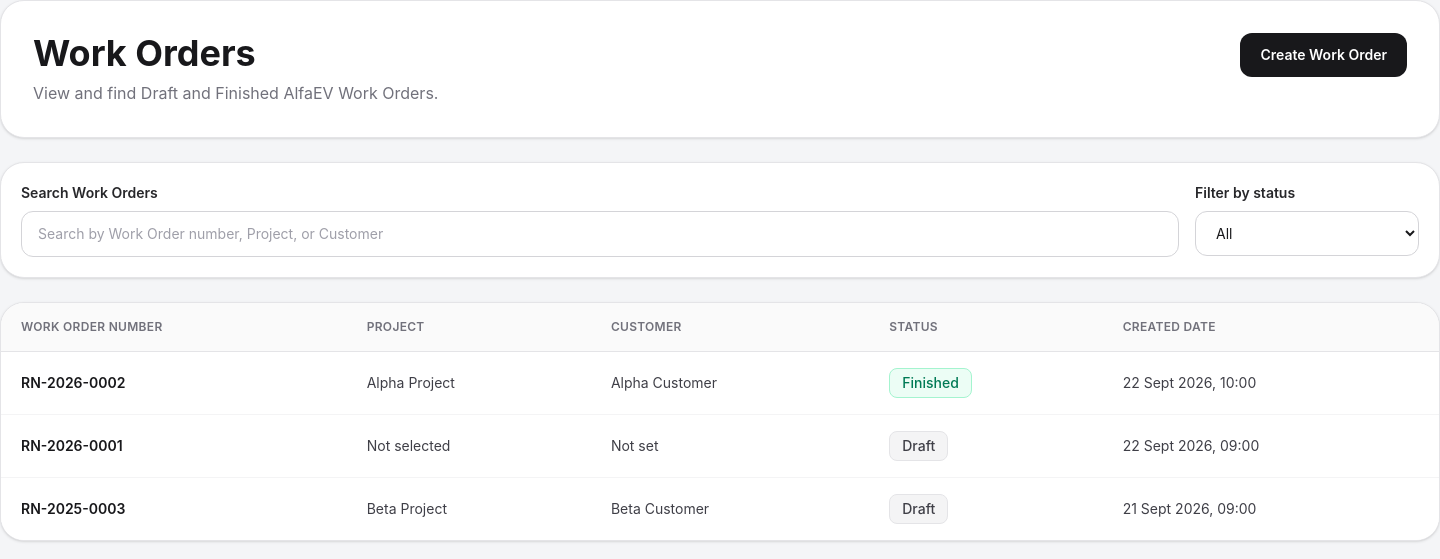
WorkOrdersPage › stays on the list and shows a safe generic failure error
Click the button "Create Work Order". click: (1324, 55)
box: [1240,33,1407,77]
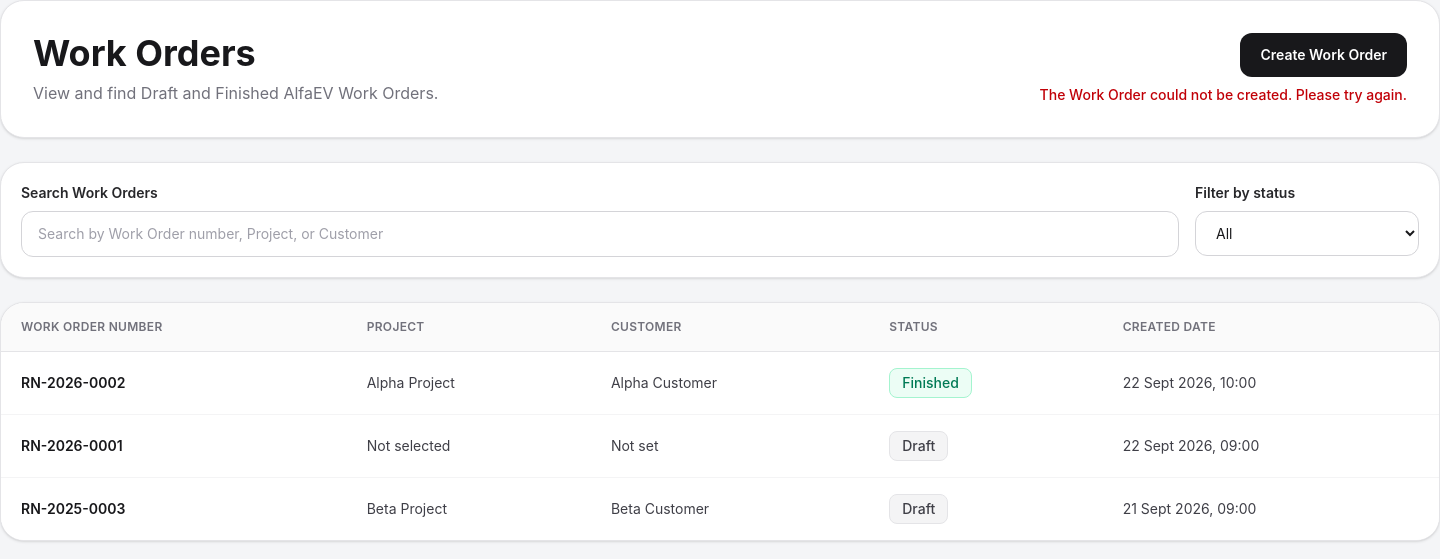
Check: the heading "Work Orders" is shown, box [33,31,256,75]
Check: the message reads "The Work Order could not be created. Please try again.", box [1040,86,1407,103]
